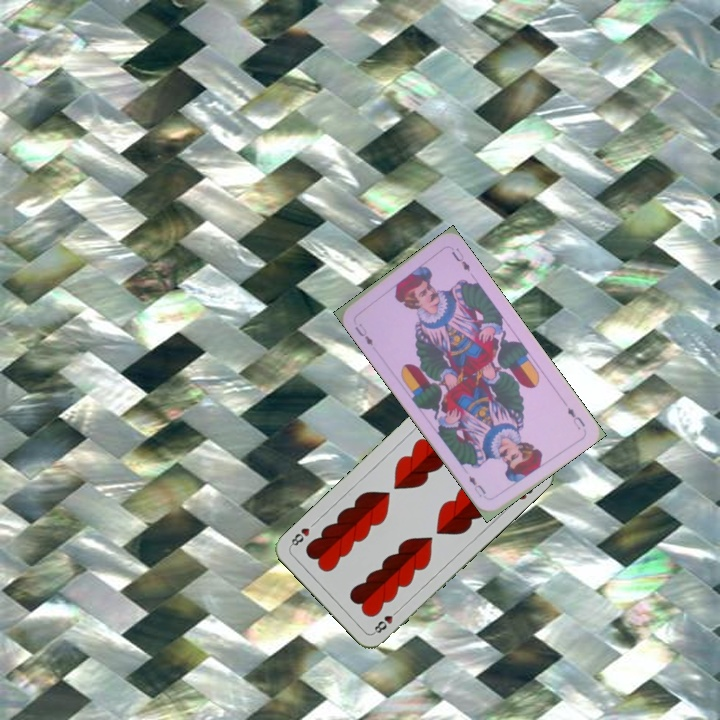EU: (351, 319, 376, 349), (563, 403, 588, 433)
H8: (369, 605, 402, 636)
